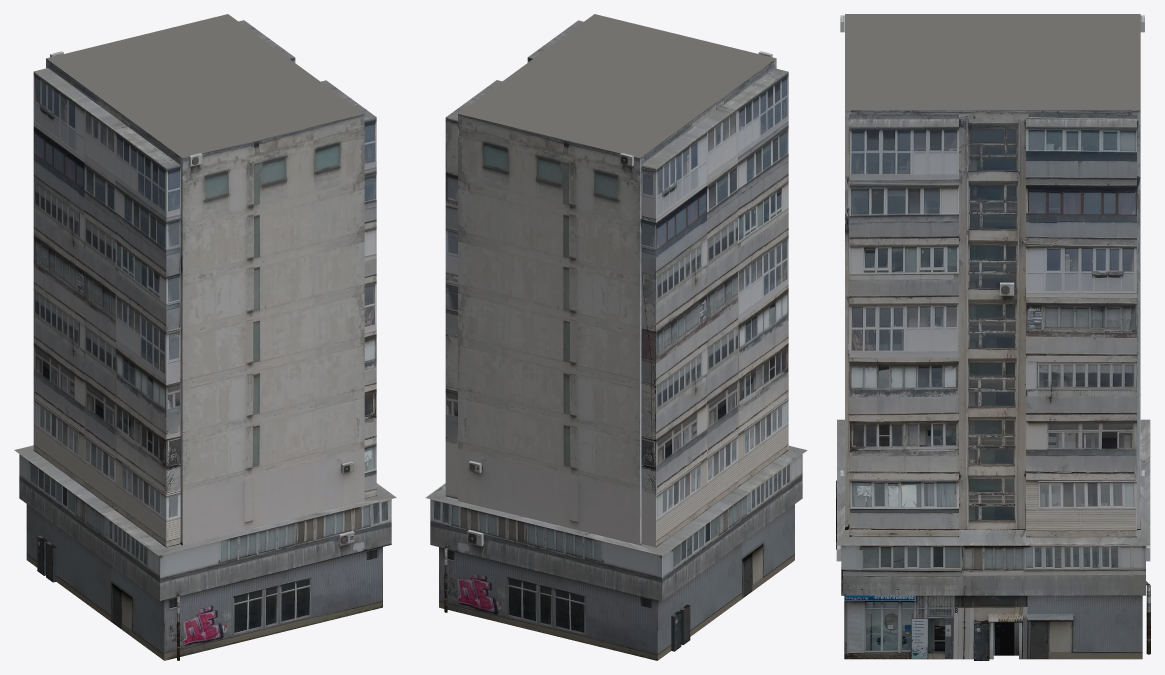
File: building3.fbx
The picture shows the model from 3 angles, left to right: view 1: azimuth 30°, elevation 25°; view 2: azimuth 150°, elevation 25°; view 3: azimuth 270°, elevation 25°; orthographic projection. The views are drawn at different scales.
Parts seen in each view (by area): view 1: Cube; view 2: Cube; view 3: Cube.
Boxes of the visible parts, x1,y1,x2,y2 form: Cube: (14,14,396,660); Cube: (425,14,807,660); Cube: (836,14,1150,660).
Bounding box in the file's own units: 1420 × 2842 × 1500.
